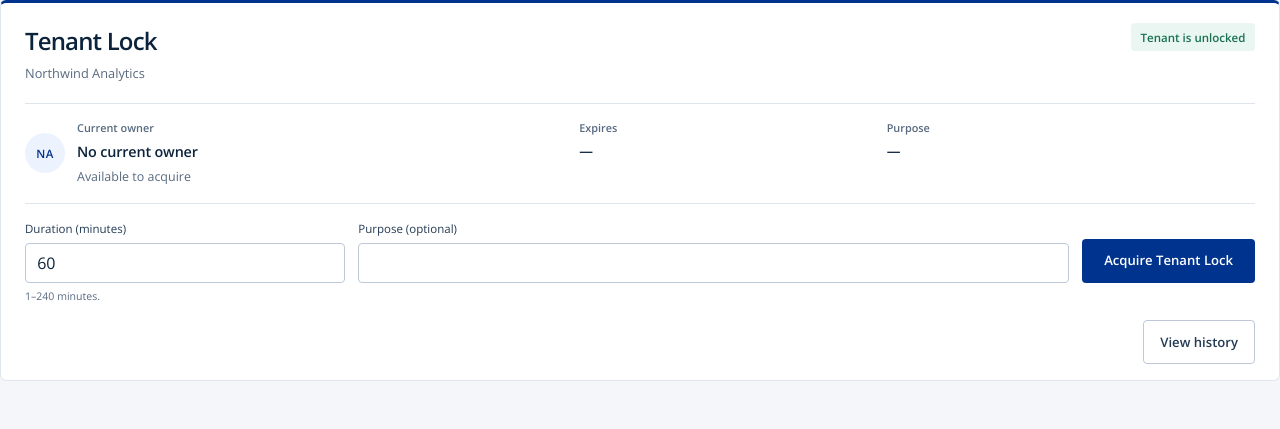
Tenant Lock acquisition › renders a bounded error without exposing raw failure details
Click the button "Acquire Tenant Lock".
click(1169, 261)  # box left=1082, top=239, right=1255, bottom=283
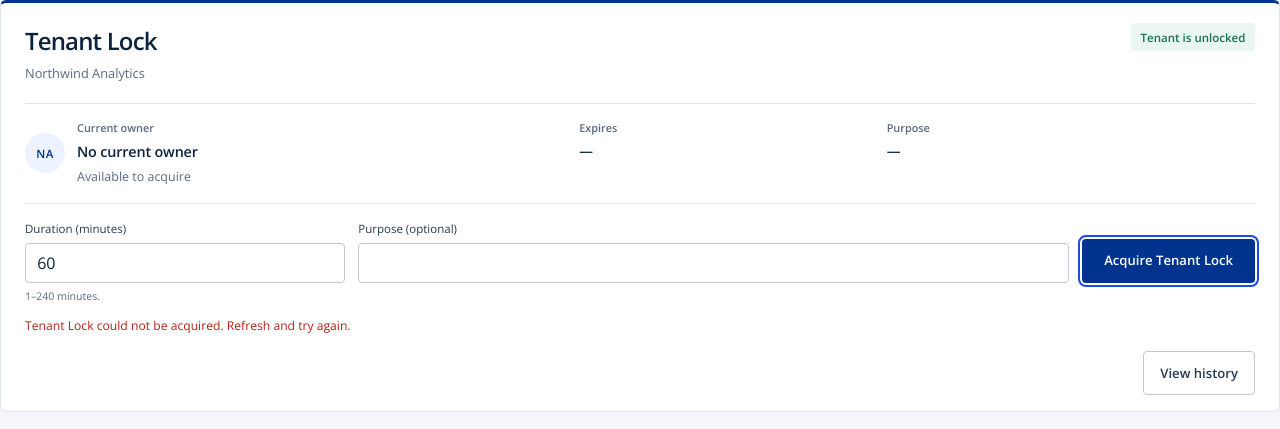
Result: the message reads "Tenant Lock could not be acquired. Refresh and try again." at left=25, top=317, right=351, bottom=334
